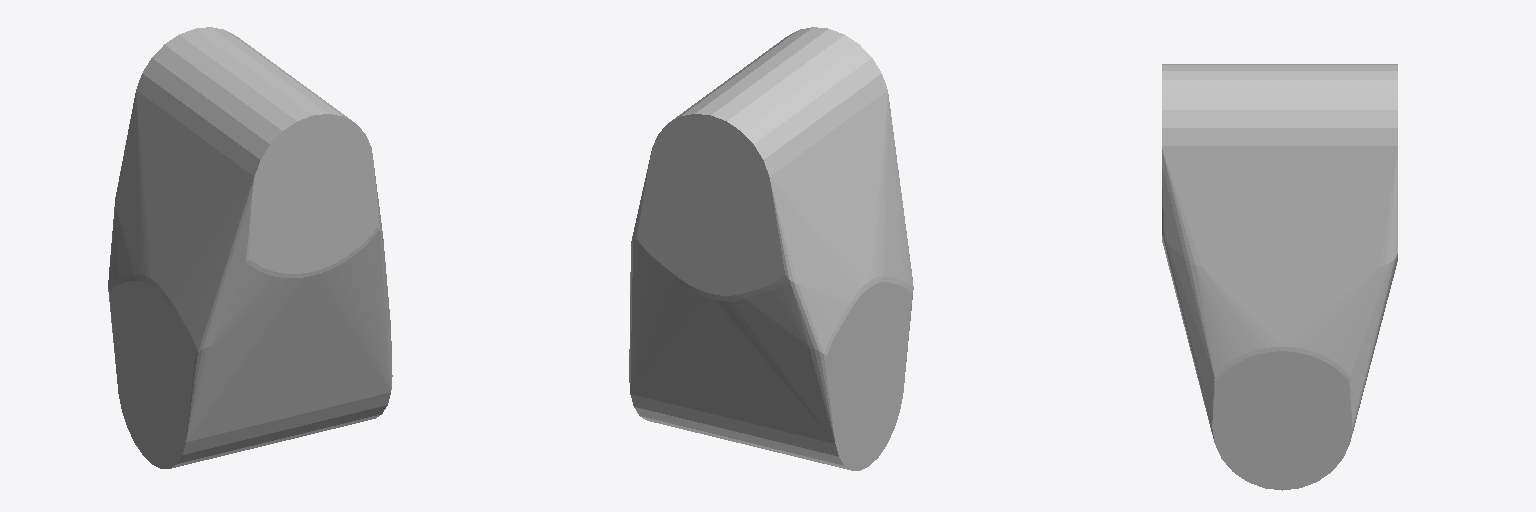
The model's file is left femur.obj.
3 views of the same model, side by side, from view 1: azimuth 30°, elevation 25°; view 2: azimuth 150°, elevation 25°; view 3: azimuth 270°, elevation 25° (orthographic).
Visible parts, largest first — view 1: obj1; view 2: obj1; view 3: obj1.
Part boxes in pixels (bbox=[...]): obj1: bbox=[108, 27, 392, 468]; obj1: bbox=[629, 27, 913, 470]; obj1: bbox=[1162, 64, 1397, 490].
Size of the model in its own units: 0.1013 by 0.174 by 0.1013.